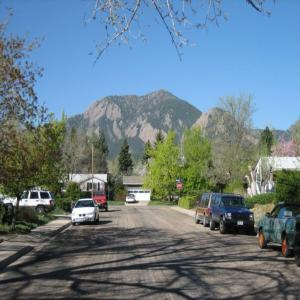Vehicle-registration-plate: (238, 219, 245, 226)
